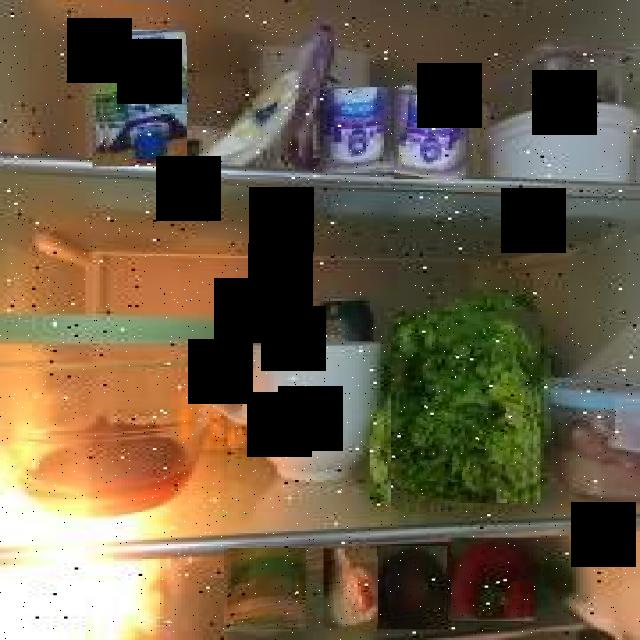avocado: (378, 546, 450, 629)
bell_pepper: (452, 538, 534, 620)
garlic: (324, 550, 380, 630)
guacamole: (224, 548, 306, 632)
heavy_cream: (94, 30, 187, 166)
salad: (391, 312, 541, 504)
yogurt: (320, 87, 395, 173), (394, 90, 466, 179)
